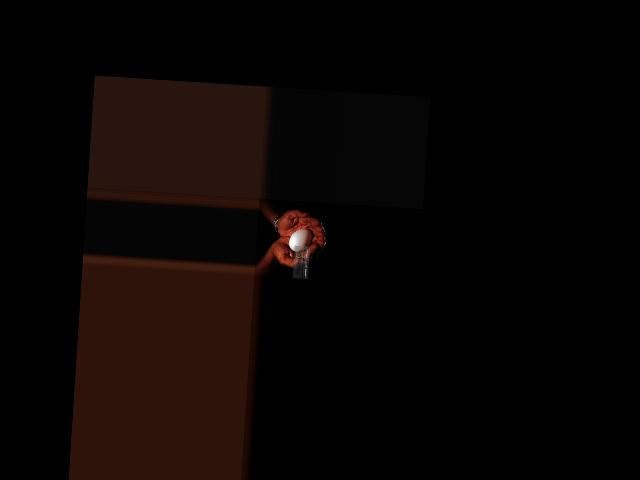egg: (289, 227, 312, 251)
